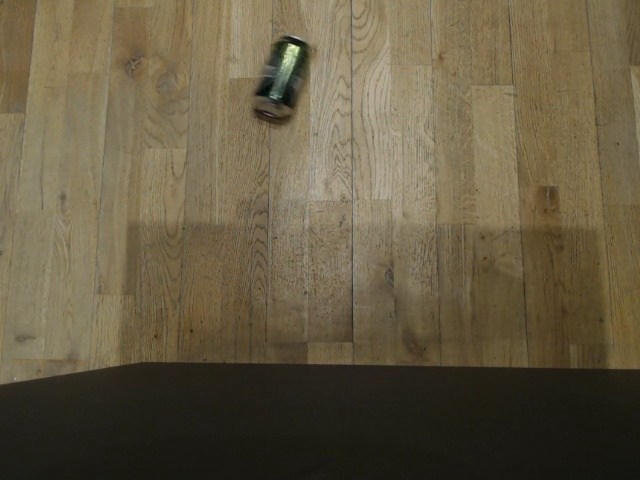beer: (251, 30, 312, 120)
